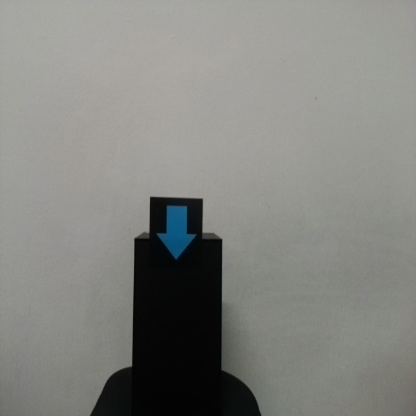id_2: (150, 197, 203, 269)
